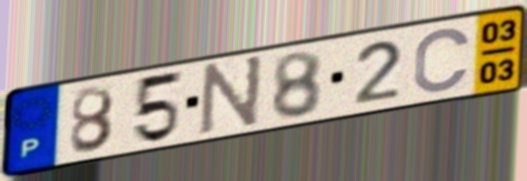2: (353, 39, 406, 107)
5: (131, 69, 183, 145)
8: (268, 49, 324, 121), (67, 85, 116, 155)
C: (410, 25, 475, 95)
N: (195, 52, 267, 138)
